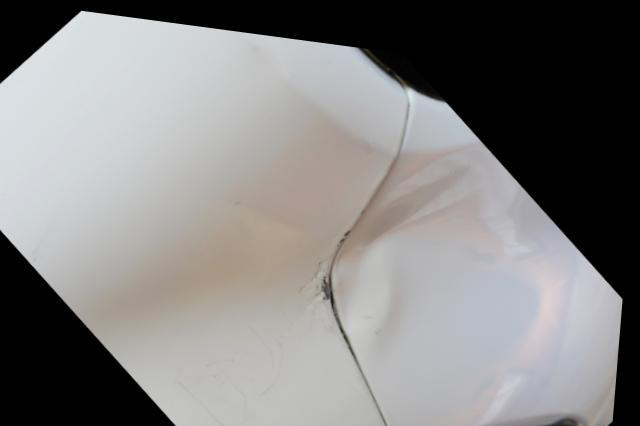dent: (335, 218, 408, 333)
